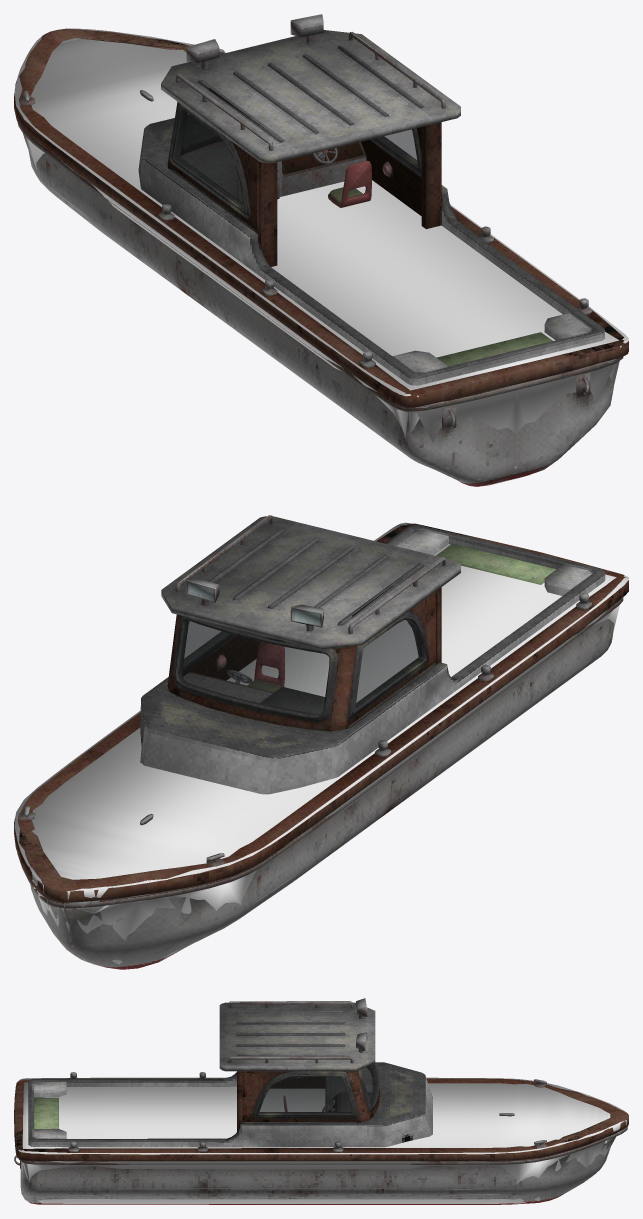
The model's file is Lancia_Cabinata.glb.
The picture shows the model from 3 angles, top to bottom: view 1: azimuth 30°, elevation 25°; view 2: azimuth 150°, elevation 25°; view 3: azimuth 270°, elevation 25°; orthographic projection. The views are drawn at different scales.
Parts seen in each view (by area): view 1: Hull, HydroHull; view 2: Hull, HydroHull; view 3: Hull, HydroHull.
Boxes of the visible parts, bbox=[...] form: Hull: bbox=[14, 14, 628, 486]; HydroHull: bbox=[14, 28, 628, 484]; Hull: bbox=[14, 515, 628, 969]; HydroHull: bbox=[14, 522, 628, 968]; Hull: bbox=[14, 998, 628, 1204]; HydroHull: bbox=[16, 1077, 626, 1203].
Size of what is drawn, in the model's own units: 3.5 by 3.8 by 12.
5 materials, 5 textured.
